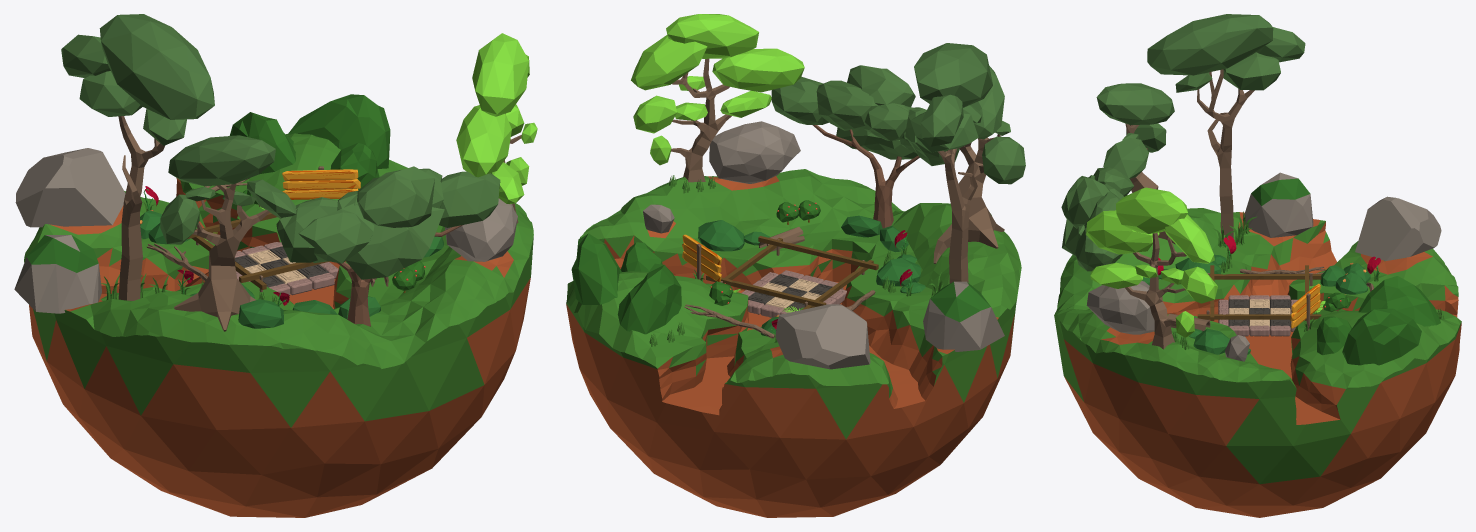
File: isla4-2.fbx
3 renders of one model, left to right at view 1: azimuth 30°, elevation 25°; view 2: azimuth 150°, elevation 25°; view 3: azimuth 270°, elevation 25°, orthographic. The views are drawn at different scales.
Visible parts, largest first — view 1: isla, Tree2.000, follaje1, follaje4, follaje1.001, arbusto.001, Stone3.001, roca1, tronco1.001, tronco1, roca, arbusto1.002 (+4 smaller); view 2: isla, follaje4, Tree2.000, follaje1, arbusto.001, Stone3.001, roca, roca1, follaje1.001, tronco1.001, tronco1, tronco4 (+7 smaller); view 3: isla, follaje4, follaje1, arbusto.001, follaje1.001, Tree2.000, Stone3.001, roca1, tronco1, roca, tronco4, Bush2.000 (+6 smaller).
Part boxes in pixels (x1=…): isla: x1=24, y1=133, x2=533, y2=517; Tree2.000: x1=276, y1=166, x2=500, y2=326; follaje1: x1=61, y1=14, x2=214, y2=145; follaje4: x1=456, y1=33, x2=537, y2=204; follaje1.001: x1=160, y1=135, x2=296, y2=244; arbusto.001: x1=229, y1=94, x2=390, y2=189; Stone3.001: x1=15, y1=148, x2=125, y2=227; roca1: x1=14, y1=235, x2=101, y2=313; tronco1.001: x1=174, y1=183, x2=269, y2=331; tronco1: x1=118, y1=116, x2=165, y2=300; roca: x1=445, y1=198, x2=517, y2=261; arbusto1.002: x1=238, y1=299, x2=283, y2=328; isla: x1=566, y1=169, x2=1021, y2=517; follaje4: x1=631, y1=14, x2=804, y2=165; Tree2.000: x1=771, y1=65, x2=959, y2=228; follaje1: x1=910, y1=43, x2=992, y2=152; arbusto.001: x1=571, y1=233, x2=681, y2=334; Stone3.001: x1=775, y1=304, x2=870, y2=369; roca: x1=709, y1=121, x2=800, y2=183; roca1: x1=923, y1=281, x2=1004, y2=351; follaje1.001: x1=971, y1=65, x2=1025, y2=184; tronco1.001: x1=933, y1=134, x2=1004, y2=263; tronco1: x1=938, y1=148, x2=977, y2=283; tronco4: x1=671, y1=58, x2=731, y2=182; isla: x1=1054, y1=208, x2=1461, y2=517; follaje4: x1=1086, y1=187, x2=1217, y2=337; follaje1: x1=1147, y1=14, x2=1305, y2=92; arbusto.001: x1=1317, y1=276, x2=1440, y2=365; follaje1.001: x1=1096, y1=83, x2=1174, y2=178; Tree2.000: x1=1061, y1=167, x2=1133, y2=271; Stone3.001: x1=1355, y1=196, x2=1441, y2=260; roca1: x1=1242, y1=172, x2=1313, y2=237; tronco1: x1=1197, y1=69, x2=1254, y2=237; roca: x1=1086, y1=281, x2=1154, y2=334; tronco4: x1=1125, y1=233, x2=1186, y2=349; Bush2.000: x1=1320, y1=262, x2=1370, y2=294.
Size of the model in its own units: 1045 by 1134 by 990.
